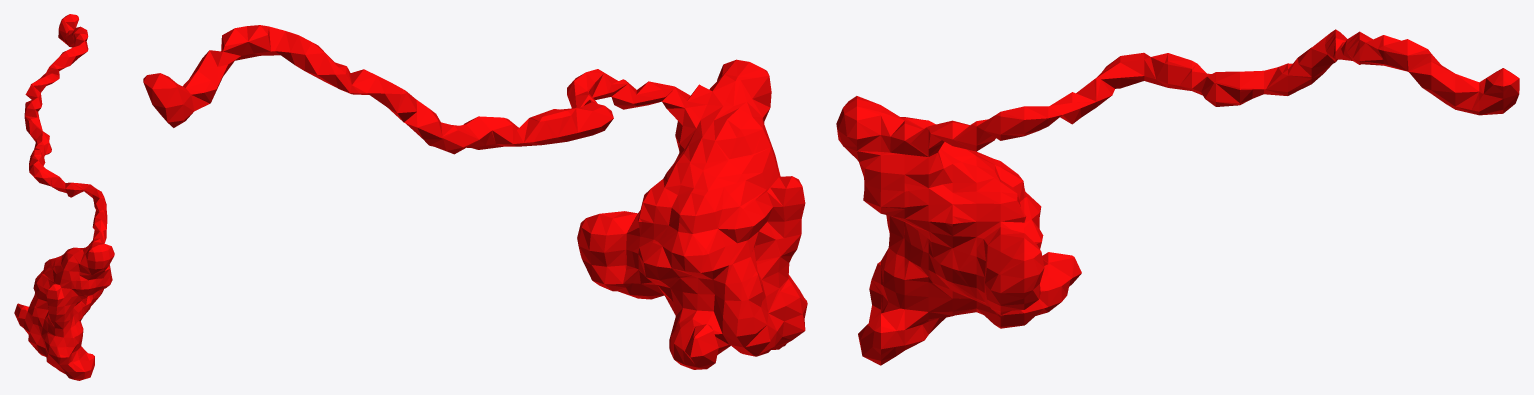
The model's file is malX_coarse.dae.
3 renders of one model, left to right at view 1: azimuth 30°, elevation 25°; view 2: azimuth 150°, elevation 25°; view 3: azimuth 270°, elevation 25°, orthographic. The views are drawn at different scales.
Parts seen in each view (by area): view 1: malX; view 2: malX; view 3: malX.
Part boxes in pixels (box(x1,y1,x2,y2)): malX: box(14, 14, 114, 380); malX: box(143, 25, 807, 369); malX: box(836, 29, 1519, 365).
Bounding box in the file's own units: 126 × 149 × 205.
